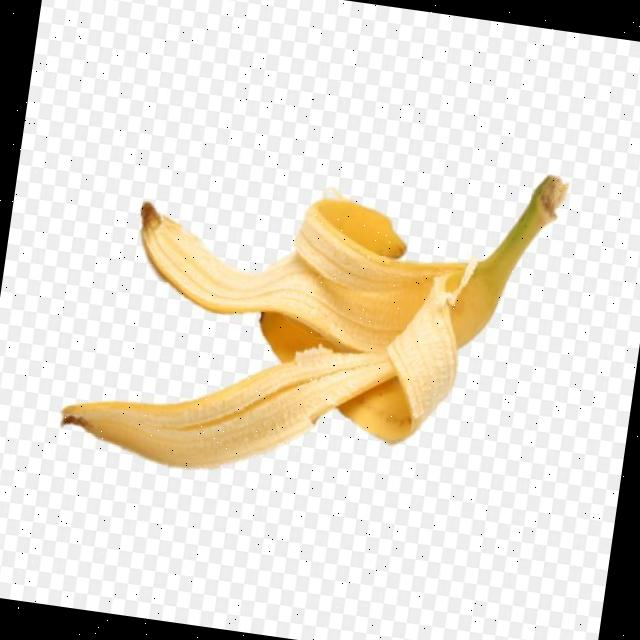banana-peel: (56, 110, 570, 516)
